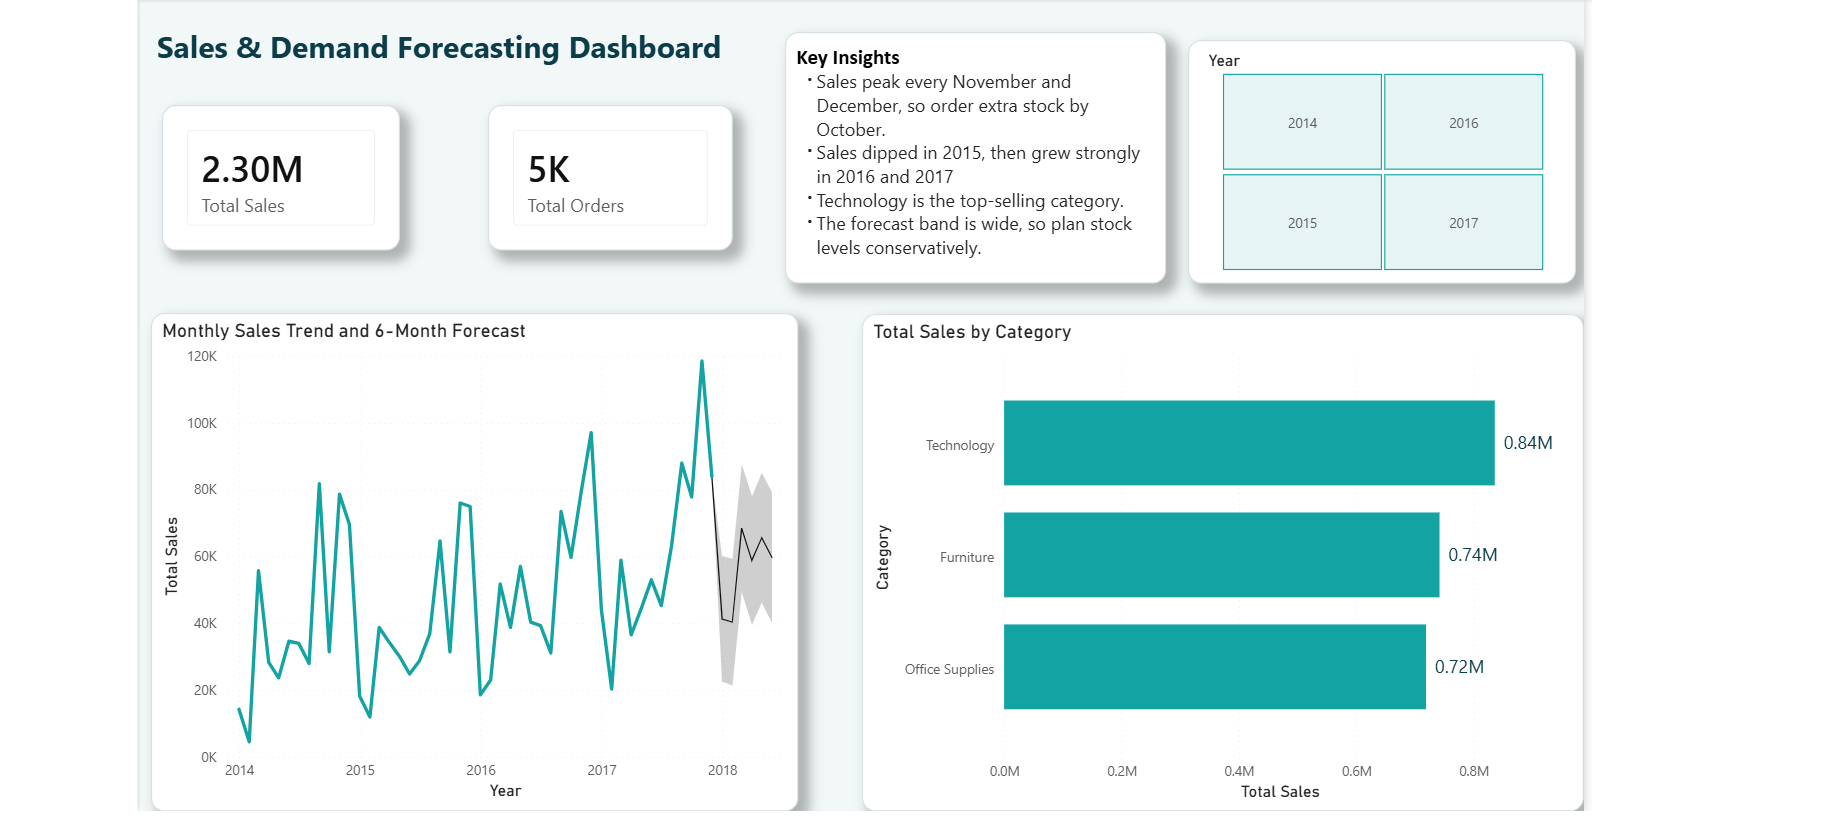

Layout of this report page (visuals, bound fields, positions):
{"tool":"powerbi","page":{"name":"Page 1","canvas":[1280,720],"ordinal":0},"visuals":[{"type":"cardVisual","fields":{"Data":["Orders.Total Sales"]},"box":[19.5,94,211,129.5],"z":0},{"type":"cardVisual","fields":{"Data":["Orders.Total Orders"]},"box":[308.6,94,217.2,129.5],"z":1000},{"type":"lineChart","title":"Monthly Sales Trend and 6-Month Forecast","fields":{"Y":["Orders.Total Sales"],"Category":["DateTable.MonthStart.Variation.Date Hierarchy.Year","DateTable.MonthStart.Variation.Date Hierarchy.Quarter","DateTable.MonthStart.Variation.Date Hierarchy.Month","DateTable.MonthStart.Variation.Date Hierarchy.Day"]},"box":[9.8,278.4,573.7,441.6],"z":2000},{"type":"barChart","fields":{"Category":["Orders.Category"],"Y":["Orders.Total Sales"]},"box":[640,279.5,640,441.4],"z":3000},{"type":"slicer","fields":{"Values":["DateTable.Year"]},"box":[929.3,36.4,344,216.4],"z":4000},{"type":"textbox","box":[571.9,29.3,337.8,223.4],"z":5000},{"type":"textbox","box":[9.8,18.6,562.2,63.8],"z":6000}]}

Visuals, with their boxes on the page's 1280x720 design canvas (x1, y1, x2, y2). These are canvas units, not pixel positions in the 1846x829 screenshot, which may show the page scaled, cropped or inside an application window:
cardVisual - Orders.Total Sales: (x1=20, y1=94, x2=230, y2=224)
cardVisual - Orders.Total Orders: (x1=309, y1=94, x2=526, y2=224)
"Monthly Sales Trend and 6-Month Forecast" lineChart: (x1=10, y1=278, x2=584, y2=720)
barChart - Orders.Category x Orders.Total Sales: (x1=640, y1=280, x2=1280, y2=721)
slicer - DateTable.Year: (x1=929, y1=36, x2=1273, y2=253)
textbox: (x1=572, y1=29, x2=910, y2=253)
textbox: (x1=10, y1=19, x2=572, y2=82)
